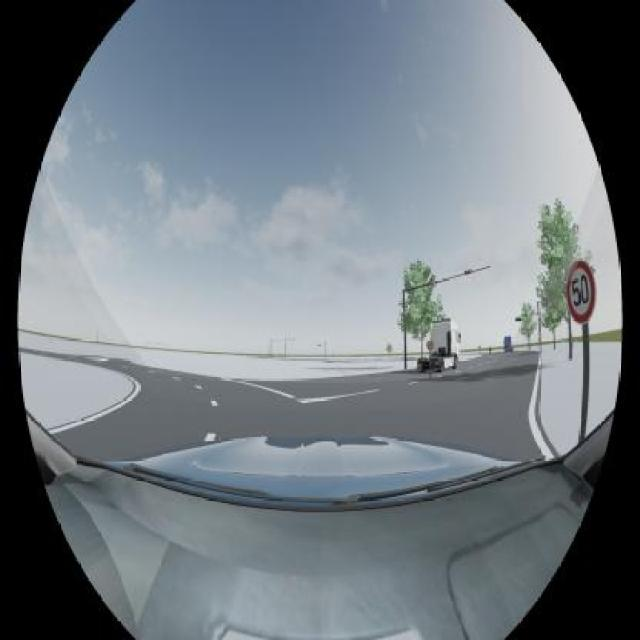forb_speed_over_50: (566, 259, 597, 324)
forb_speed_over_60: (426, 339, 434, 350)
